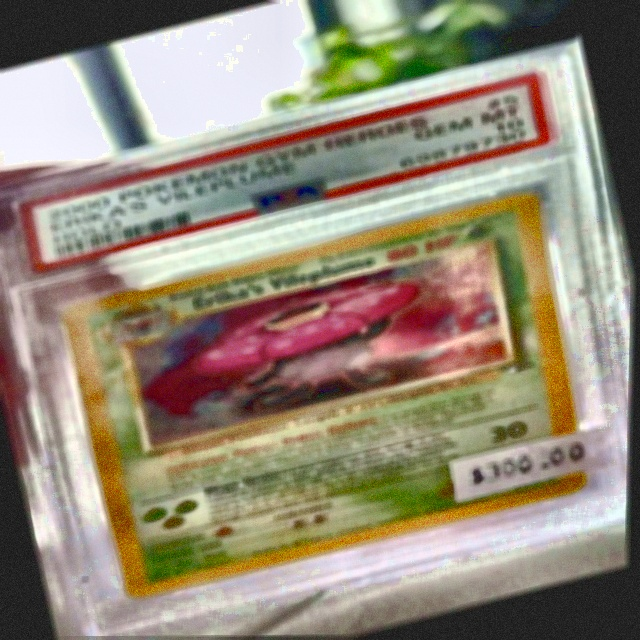card: (61, 191, 589, 597)
